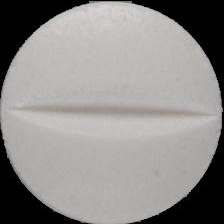68151-1464: (0, 0, 224, 224)
